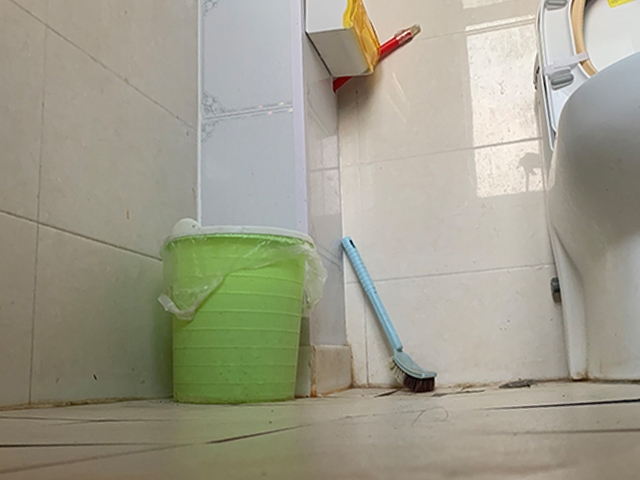closestool: (532, 1, 640, 382)
trashcan: (160, 217, 316, 405)
